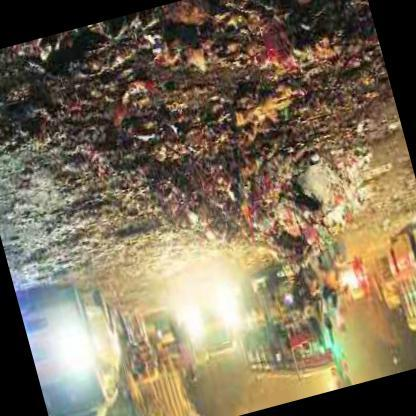Garbage: (227, 113, 352, 268), (100, 0, 248, 122), (80, 80, 202, 222), (253, 0, 373, 101), (0, 47, 81, 165)
